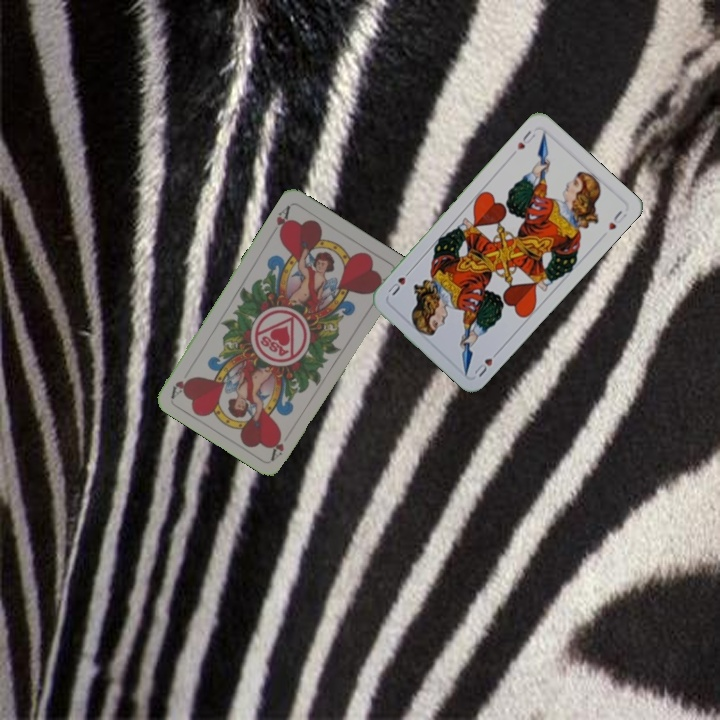HA: (267, 201, 293, 240), (267, 429, 286, 462)
HU: (470, 346, 502, 380), (513, 126, 538, 153)
